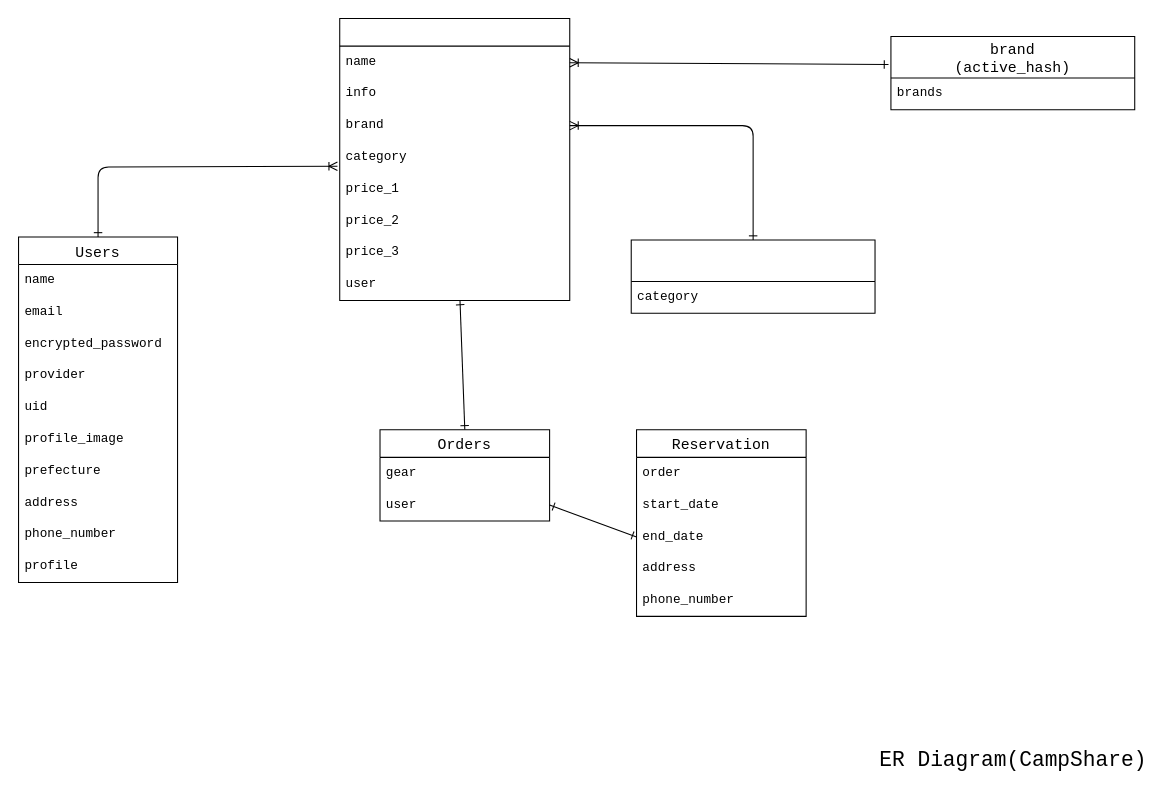
This 1174x798 diagram has some shape labels left out. Here are the shapes that lost their labels. From the top down, the box of each, then its label:
(339, 17, 570, 301): Gears
(630, 239, 875, 313): category (active_hash)
